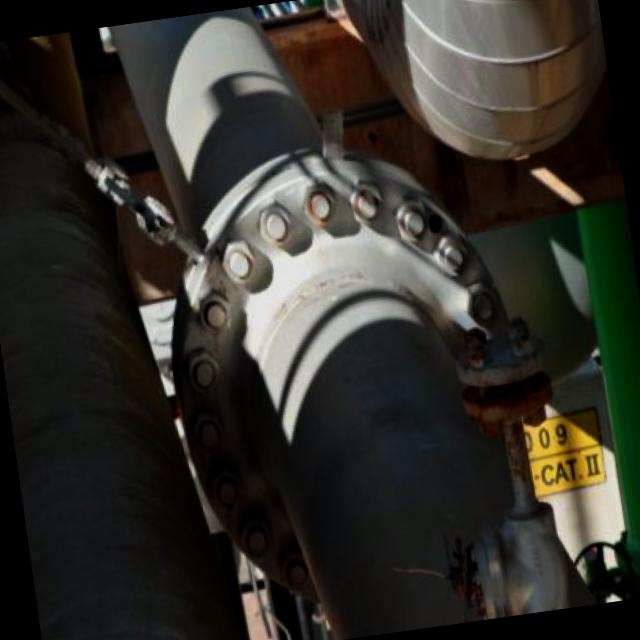gas: (109, 8, 565, 629), (0, 122, 236, 640)
